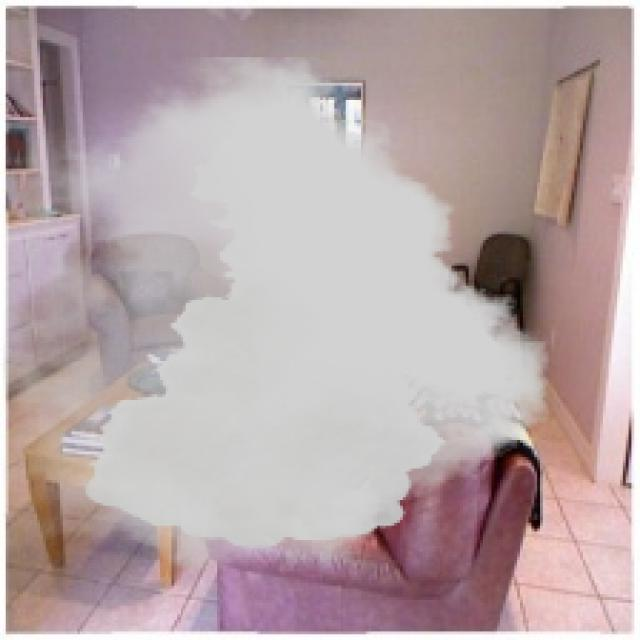smoke: (3, 57, 548, 572)
